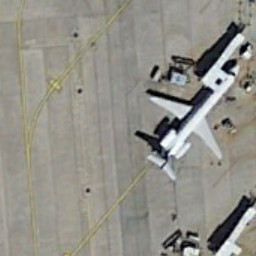Airplane: (140, 51, 246, 185)
